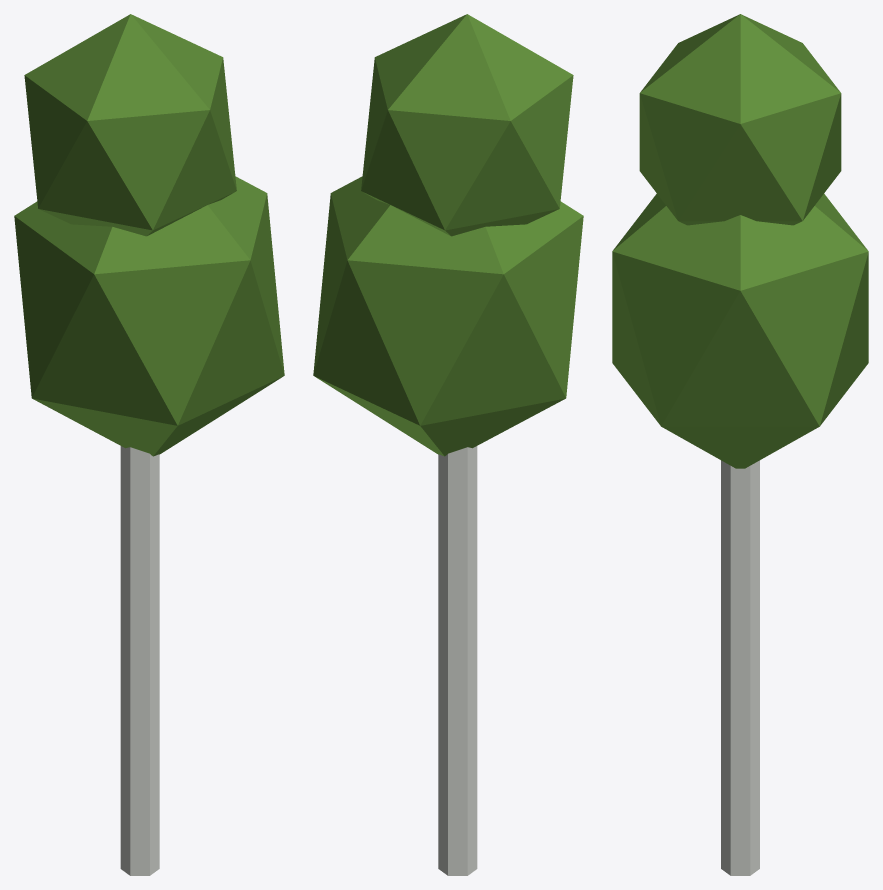
The model's file is birch_tall.glb.
3 renders of one model, left to right at view 1: azimuth 30°, elevation 25°; view 2: azimuth 150°, elevation 25°; view 3: azimuth 270°, elevation 25°, orthographic.
Visible parts, largest first — view 1: BirchTall; view 2: BirchTall; view 3: BirchTall.
Part boxes in pixels (x1,y1,x2,y2): BirchTall: (14, 14, 284, 875); BirchTall: (313, 14, 583, 875); BirchTall: (612, 14, 868, 875).
Bounding box in the file's own units: 2.5 × 8.71 × 2.38.
